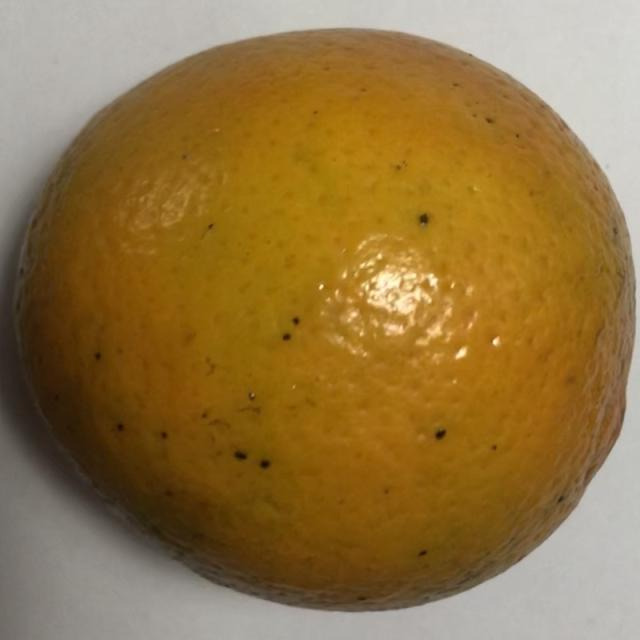black spot: (8, 30, 636, 607)
